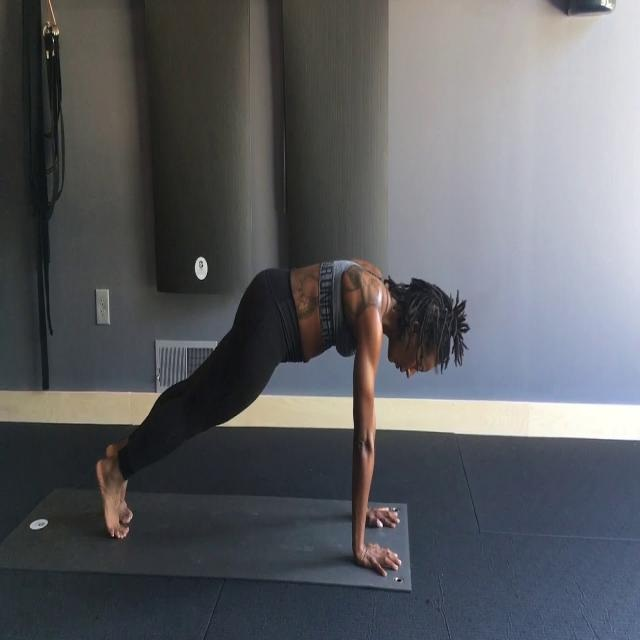plank: (91, 248, 472, 586)
